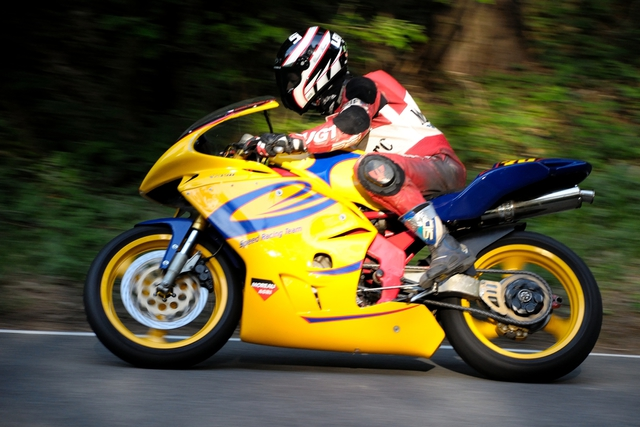helmet: (274, 28, 355, 103)
